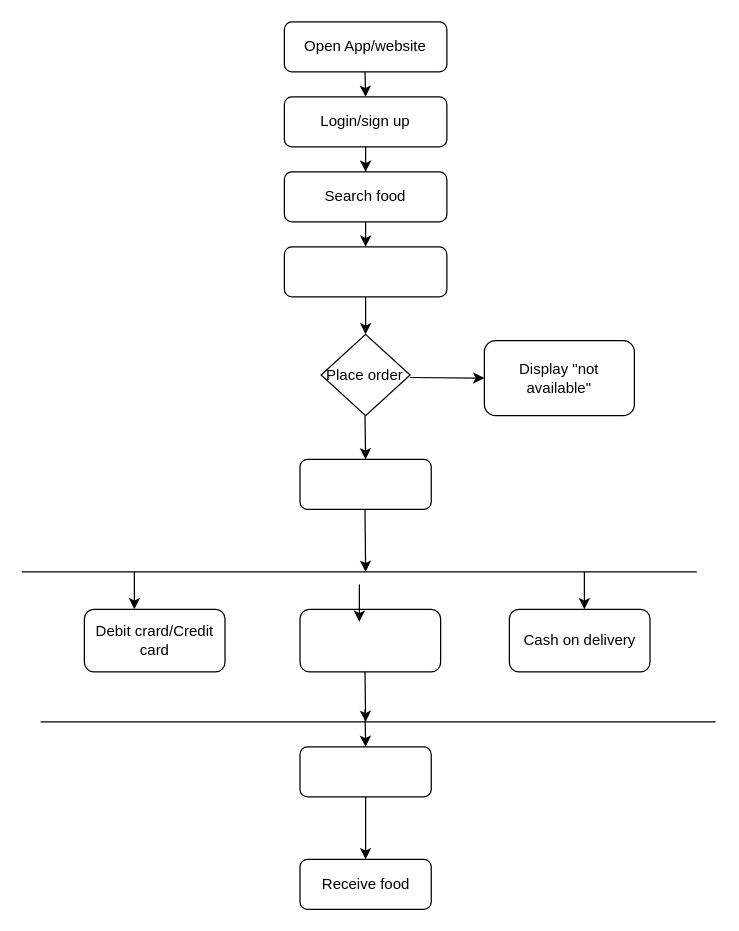
Some shapes in this 739 by 931 pixel diagram are drawn without their labels. The centre of each missing label's shape, as x and y in pixels:
"Check status" belongs at [365,771].
"Payment" belongs at [365,483].
"Paytm" belongs at [370,640].
"Select dish" belongs at [365,271].
